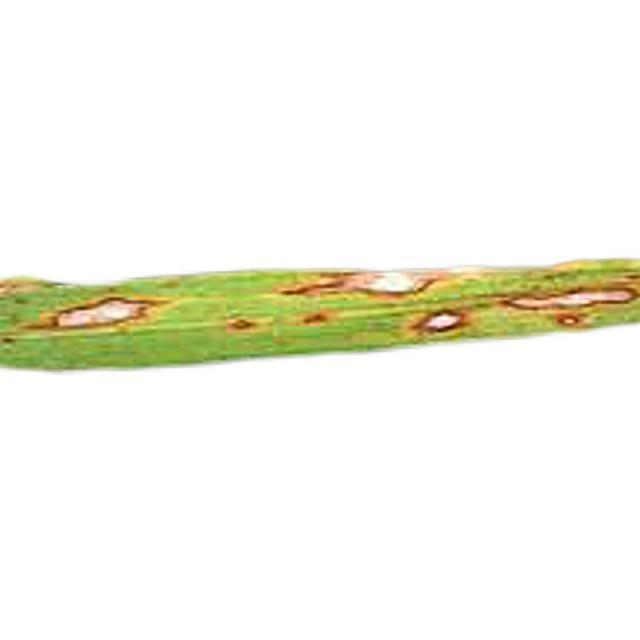Leaf_Blast: (490, 268, 640, 338), (211, 295, 367, 357), (276, 246, 444, 297), (23, 287, 150, 340), (393, 304, 472, 360)
